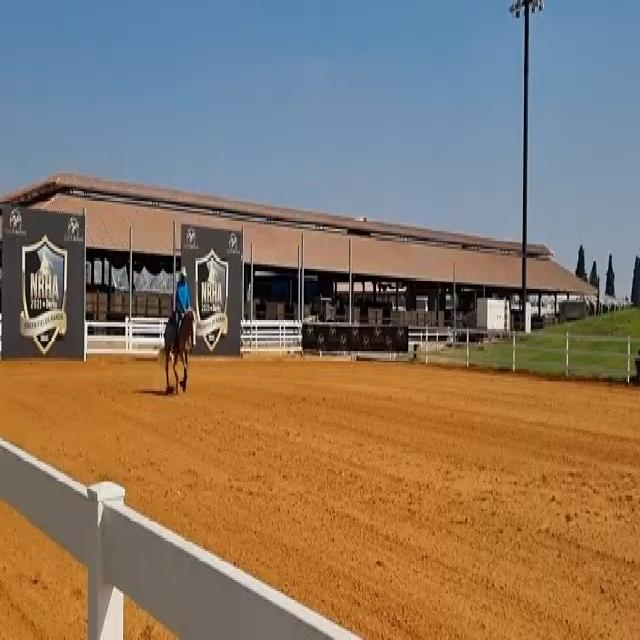horse: (159, 304, 196, 396)
